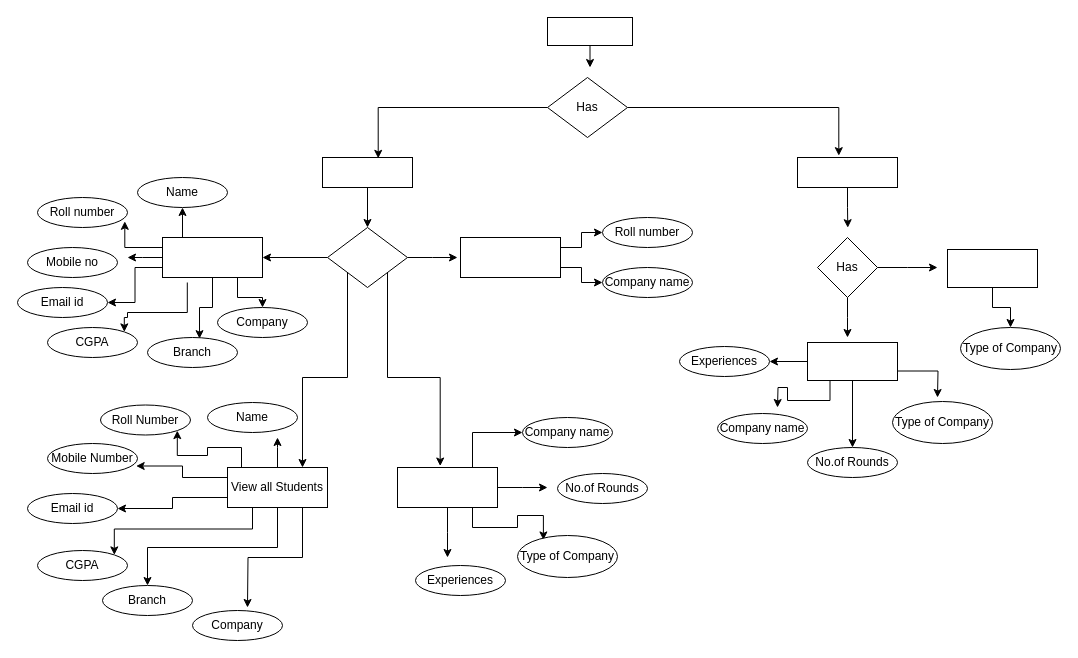
Some shapes in this 1078 by 658 pixel diagram are drawn without their labels. Here are the shapes that lost their labels. From the top down, the centre of each, then its label:
At point 589,31: "T&P".
At point 367,172: "Admin".
At point 847,172: "Feedback".
At point 212,257: "Add a Student".
At point 367,257: "Manages".
At point 510,257: "Update a Student".
At point 992,268: "Search Feedback".
At point 852,361: "Submit Feedback".
At point 447,487: "View all feedback".
